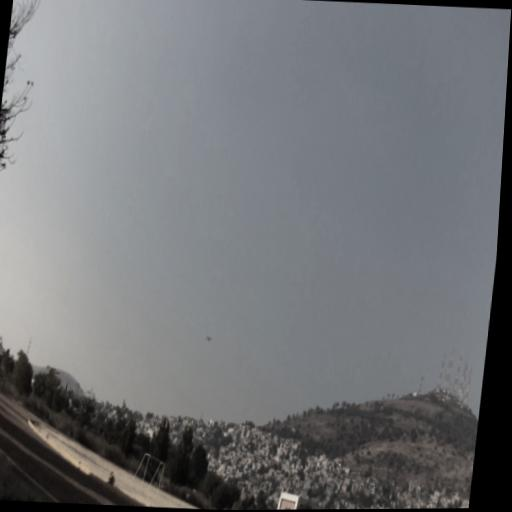drones: (205, 335, 213, 343)
